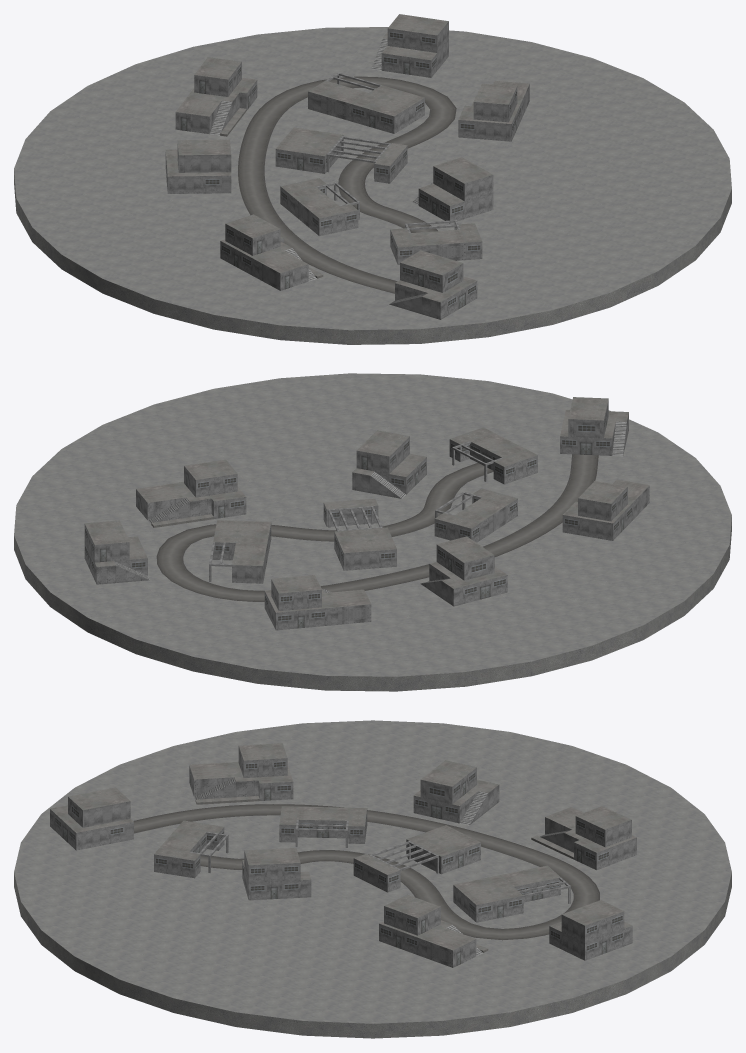
The model's file is battleground.glb.
3 views of the same model, one above another, from view 1: azimuth 30°, elevation 25°; view 2: azimuth 150°, elevation 25°; view 3: azimuth 270°, elevation 25° (orthographic).
Parts seen in each view (by area): view 1: ground, Road, Building_6, Building_6.002, Building_1, Building_4.001, Building_3, Building_2, Building_2.001, Building_4, Building_6.001, Building_5 (+1 smaller); view 2: ground, Road, Building_6.001, Building_6, Building_4, Building_3, Building_6.002, Building_2.001, Building_4.001, Building_2, Building_1, Building_5 (+1 smaller); view 3: ground, Road, Building_6.002, Building_6, Building_6.001, Building_3, Building_1, Building_4.001, Building_4, Building_2, Building_2.001, Building_5 (+1 smaller).
Boxes of the visible parts, x1,y1,x2,y2 form: ground: [14, 27, 731, 344]; Road: [238, 76, 456, 293]; Building_6: [175, 57, 257, 136]; Building_6.002: [220, 214, 323, 290]; Building_1: [308, 72, 424, 133]; Building_4.001: [389, 250, 477, 319]; Building_3: [275, 127, 407, 183]; Building_2: [371, 14, 448, 77]; Building_2.001: [412, 157, 493, 223]; Building_4: [165, 139, 231, 193]; Building_6.001: [458, 80, 529, 141]; Building_5: [280, 178, 359, 235]; ground: [14, 373, 731, 691]; Road: [156, 454, 598, 601]; Building_6.001: [136, 459, 246, 527]; Building_6: [264, 575, 371, 630]; Building_4: [420, 536, 507, 606]; Building_3: [323, 498, 396, 570]; Building_6.002: [562, 479, 649, 540]; Building_2.001: [352, 430, 426, 498]; Building_4.001: [560, 397, 628, 456]; Building_2: [84, 520, 149, 584]; Building_1: [209, 520, 271, 583]; Building_5: [434, 488, 517, 542]; ground: [14, 720, 731, 1038]; Road: [133, 804, 599, 940]; Building_6.002: [189, 743, 293, 804]; Building_6: [531, 806, 636, 870]; Building_6.001: [379, 894, 488, 967]; Building_3: [353, 825, 480, 892]; Building_1: [453, 865, 570, 922]; Building_4.001: [50, 787, 133, 850]; Building_4: [413, 760, 499, 825]; Building_2: [549, 900, 632, 960]; Building_2.001: [242, 848, 311, 900]; Building_5: [279, 806, 367, 847].
Size of the model in its own units: 115 by 8.83 by 115.
Materials: 3 (3 with a texture image).
